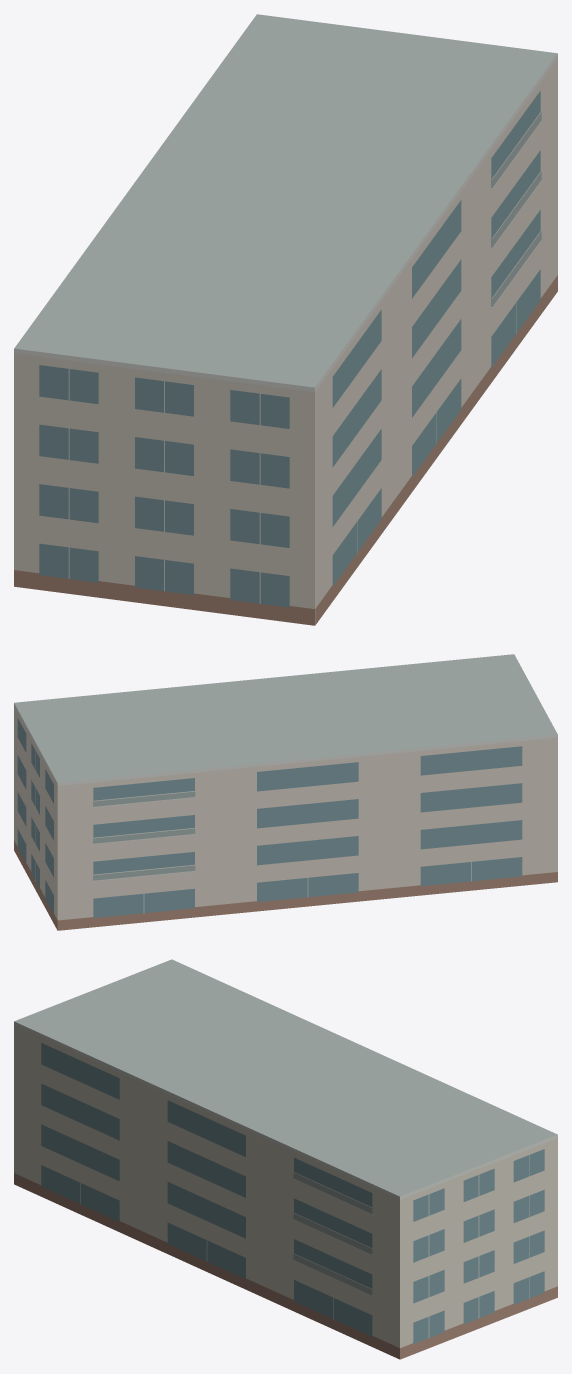
Rendered from residential-4bf6ae38-4ae1-45e9-8fab-1bf88bad8ae9.glb.
3 views of the same model, one above another, from view 1: azimuth 30°, elevation 25°; view 2: azimuth 150°, elevation 25°; view 3: azimuth 270°, elevation 25° (orthographic). The views are drawn at different scales.
Visible parts, largest first — view 1: residential-4bf6ae38-4ae1-45e9-8fab-1bf88bad8ae9.tmp; view 2: residential-4bf6ae38-4ae1-45e9-8fab-1bf88bad8ae9.tmp; view 3: residential-4bf6ae38-4ae1-45e9-8fab-1bf88bad8ae9.tmp.
Part boxes in pixels (x1,y1,x2,y2): residential-4bf6ae38-4ae1-45e9-8fab-1bf88bad8ae9.tmp: [14, 14, 557, 625]; residential-4bf6ae38-4ae1-45e9-8fab-1bf88bad8ae9.tmp: [14, 654, 557, 930]; residential-4bf6ae38-4ae1-45e9-8fab-1bf88bad8ae9.tmp: [14, 959, 557, 1359].
Size of the model in its own units: 38.1 by 12.2 by 36.9.
